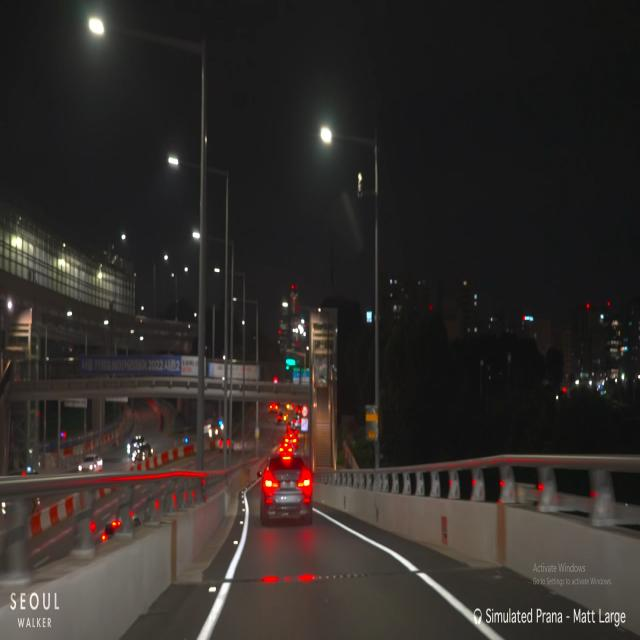headlights: (76, 459, 97, 476)
